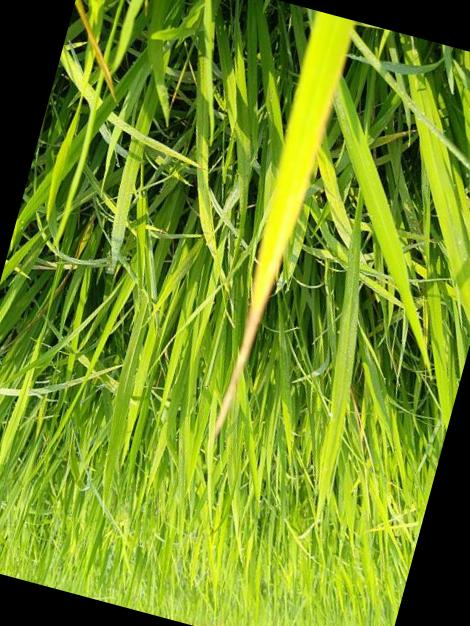Leaf Blight: (209, 12, 353, 453)
